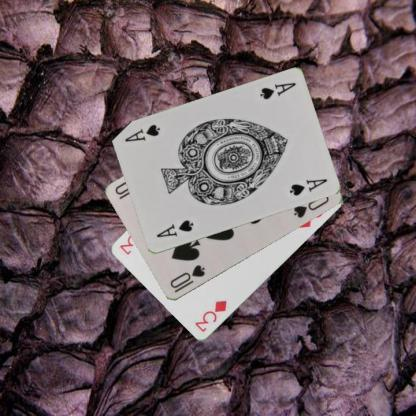10s: (167, 262, 206, 290)
3d: (192, 297, 228, 334)
As: (154, 217, 194, 239), (257, 80, 297, 101)
